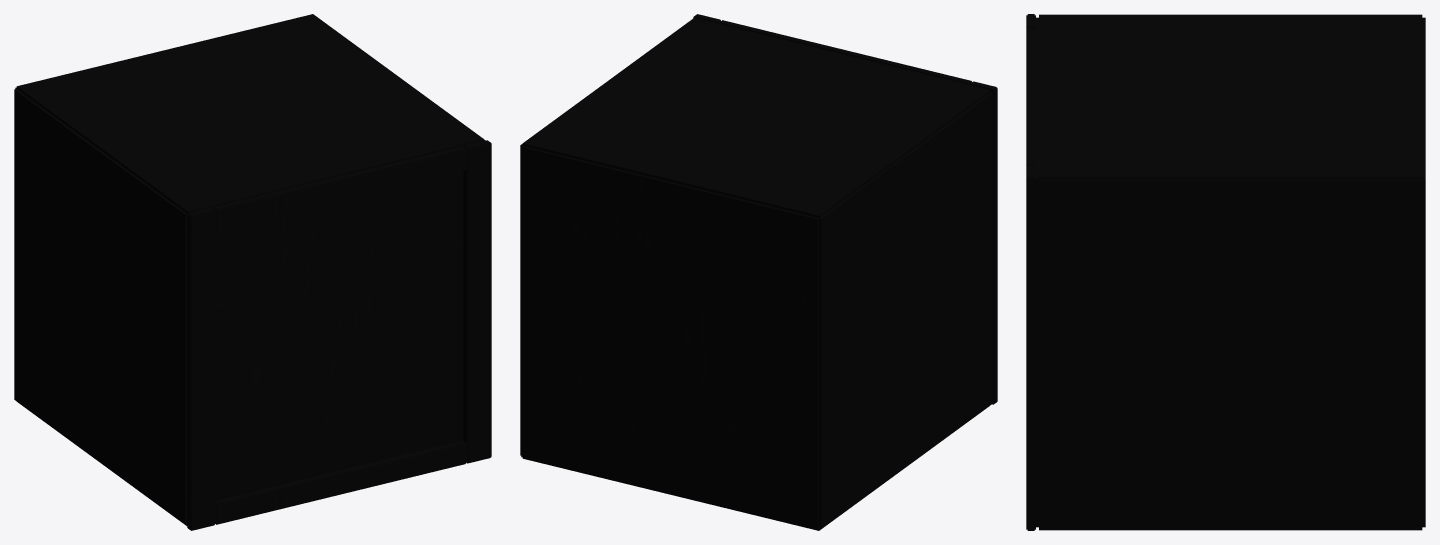
File: obj_crate.glb
3 renders of one model, left to right at view 1: azimuth 30°, elevation 25°; view 2: azimuth 150°, elevation 25°; view 3: azimuth 270°, elevation 25°, orthographic. The views are drawn at different scales.
Visible parts, largest first — view 1: crate_body; view 2: crate_body; view 3: crate_body.
Part boxes in pixels (x1=…): crate_body: x1=14, y1=14, x2=491, y2=530; crate_body: x1=520, y1=14, x2=997, y2=530; crate_body: x1=1026, y1=14, x2=1425, y2=530.
Size of the model in its own units: 0.6 by 0.6 by 0.6145.
1 material, 1 textured.
